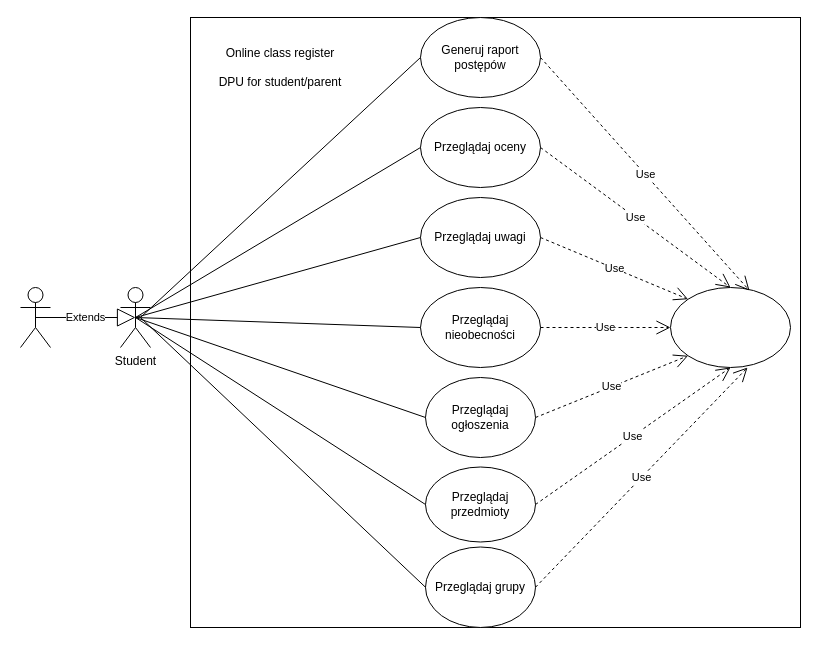
The diagram is 818 pixels wide and 645 high, and some of its shapes have lost their labels. Each missing label, with the box of its shape:
Autoryzuj użytkownika: (670, 286, 790, 368)
Rodzic: (20, 286, 50, 348)
